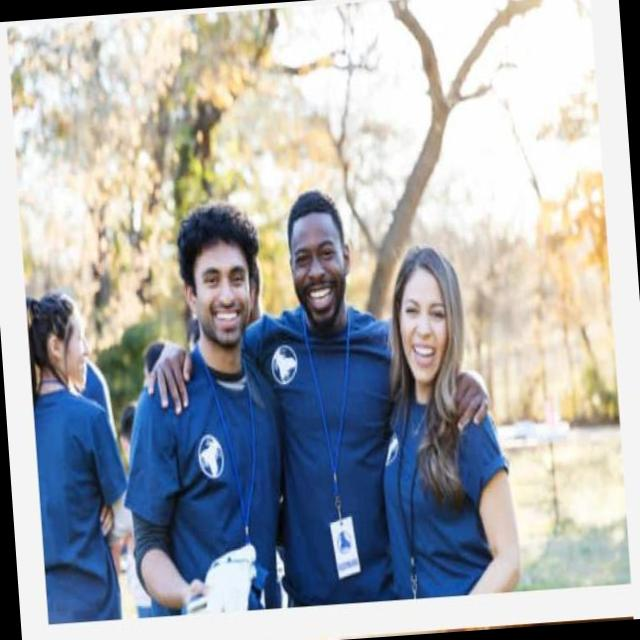id_card: (298, 307, 372, 578), (378, 376, 437, 602), (226, 356, 265, 607)
